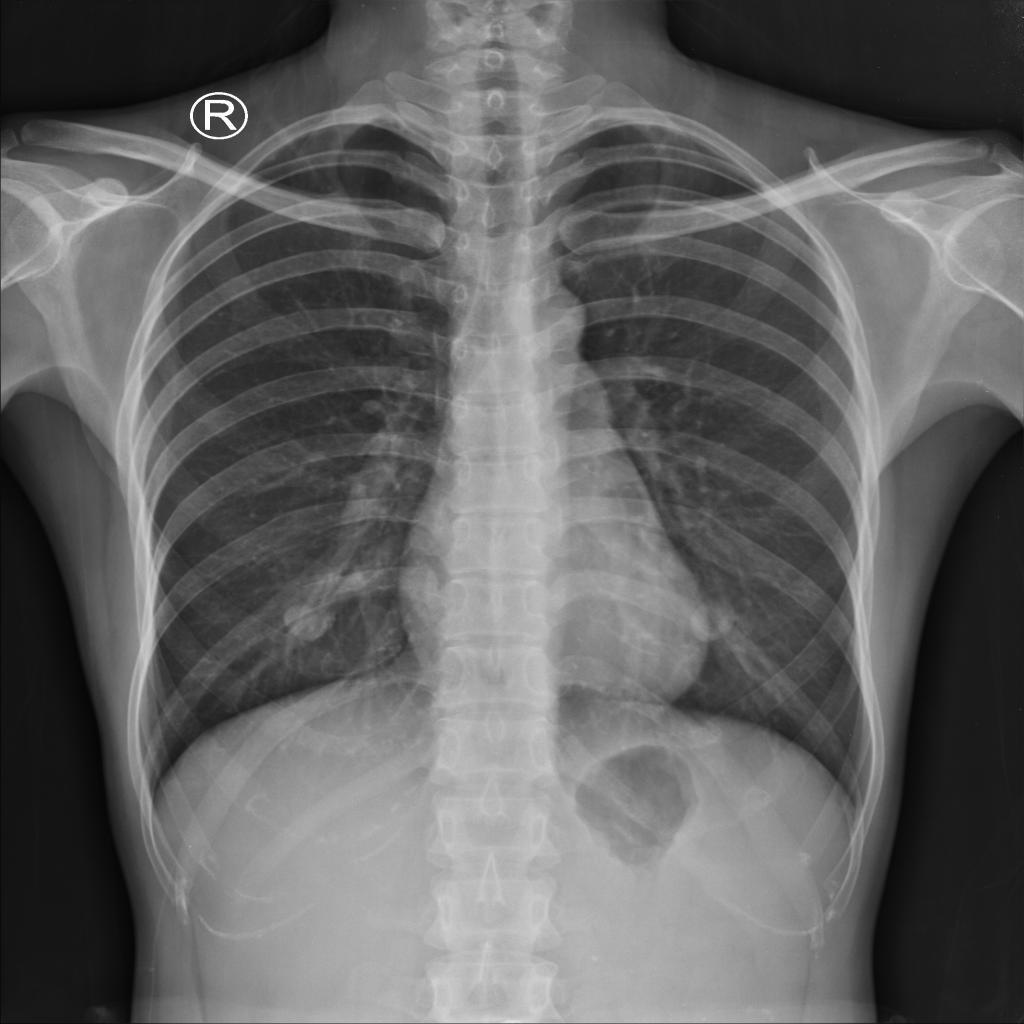Nodule: (686, 596, 735, 643), (284, 602, 328, 639)
